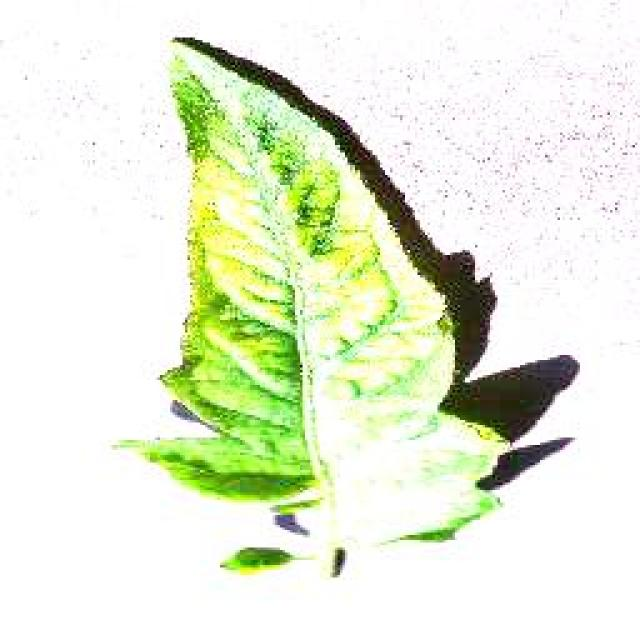Tomato___Tomato_mosaic_virus: (138, 42, 505, 572)
